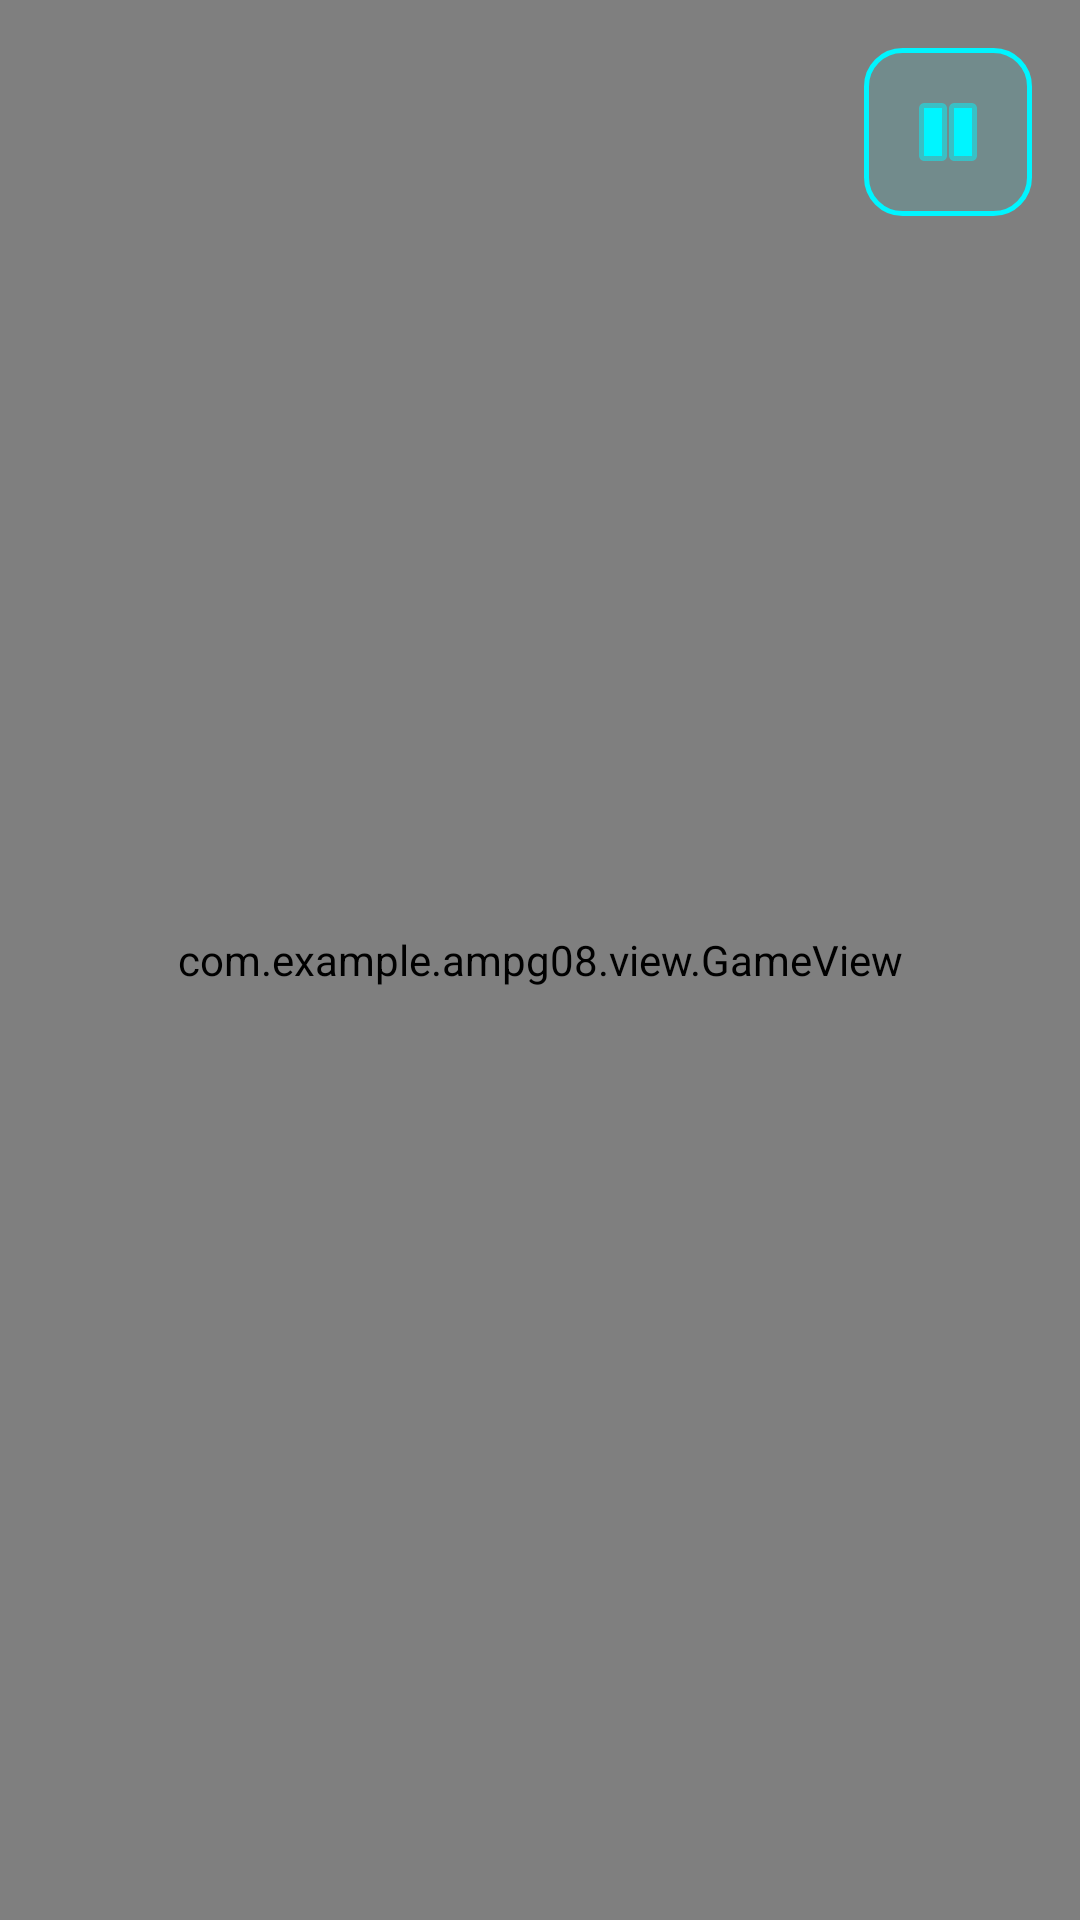

Screen size 1080 x 1920. Icon name, then its center in pixels as (x,y):
Tạm dừng: (948,132)
